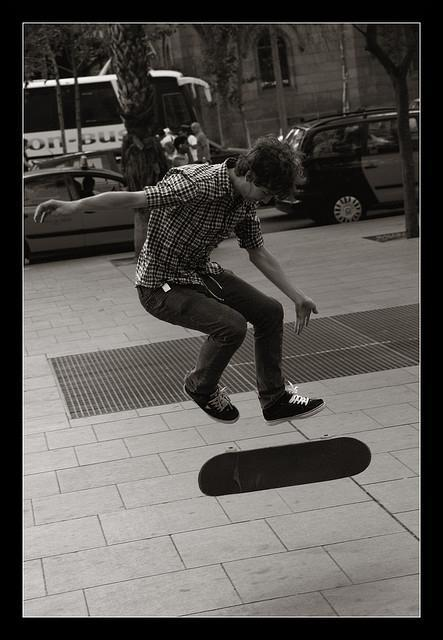bus: (26, 74, 212, 175)
car: (278, 113, 420, 226), (21, 166, 136, 261)
